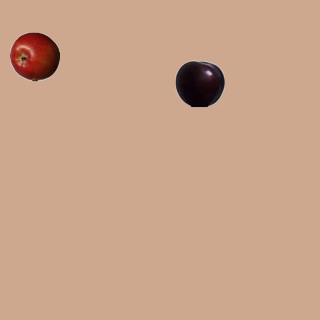Apple Braeburn: (9, 31, 59, 81)
Cherry Wax Black: (174, 58, 224, 108)
